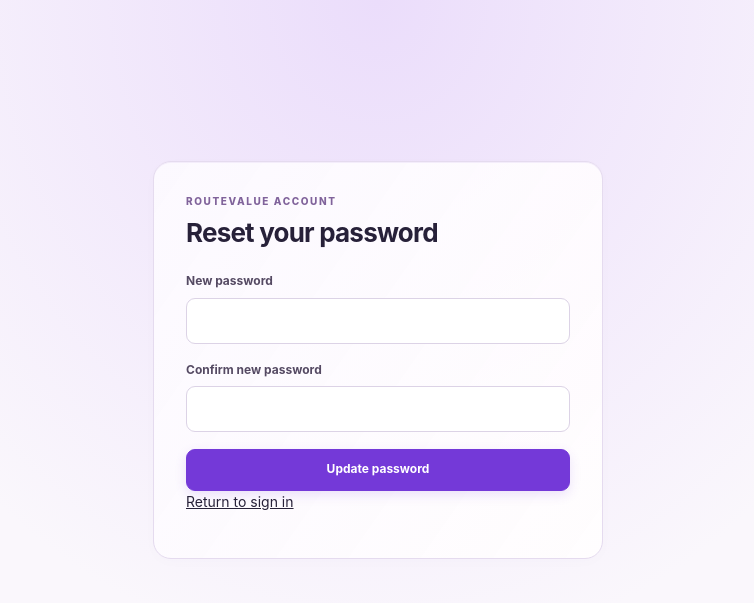
Test: rejects mismatched passwords without consuming a token
The width and height of the screenshot is (754, 603).
Type "synthetic-password" into the password field labelled "New password".
click(378, 321); type("synthetic-password")  # box [186,298,570,344]
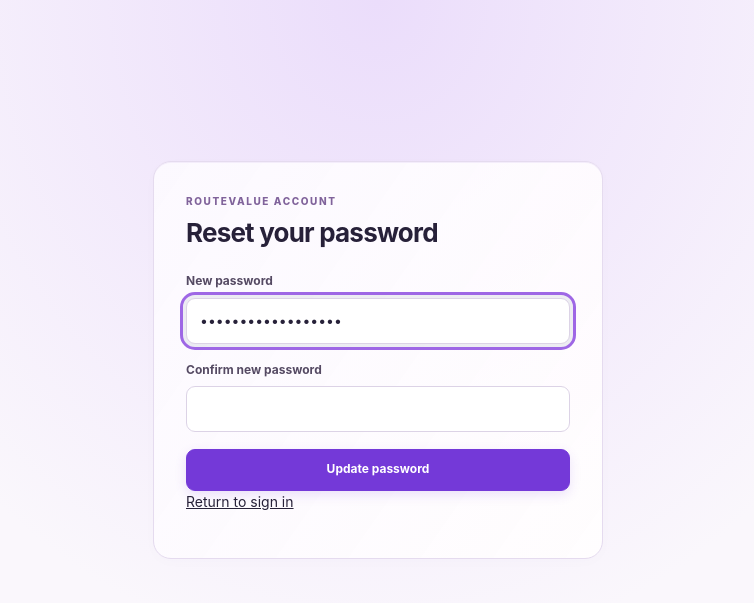
Type "different-password" into the password field labelled "Confirm new password".
click(378, 409); type("different-password")  # box [186,386,570,432]
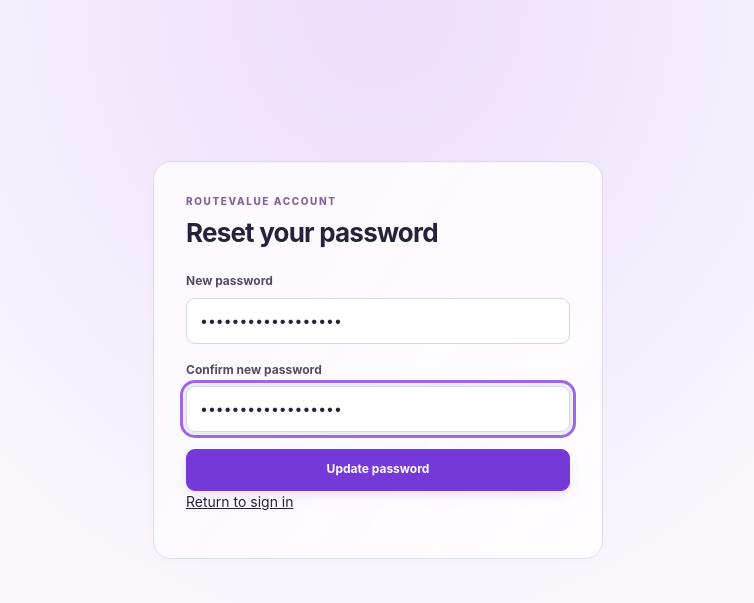
Click the button "Update password".
click(378, 470)  # box [186,449,570,491]
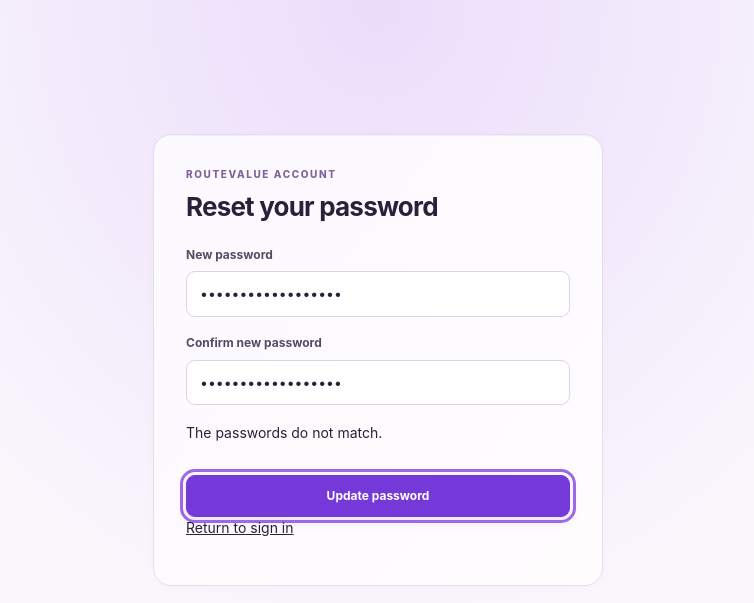
Now the message shows "do not match", box [186,424,382,441]
